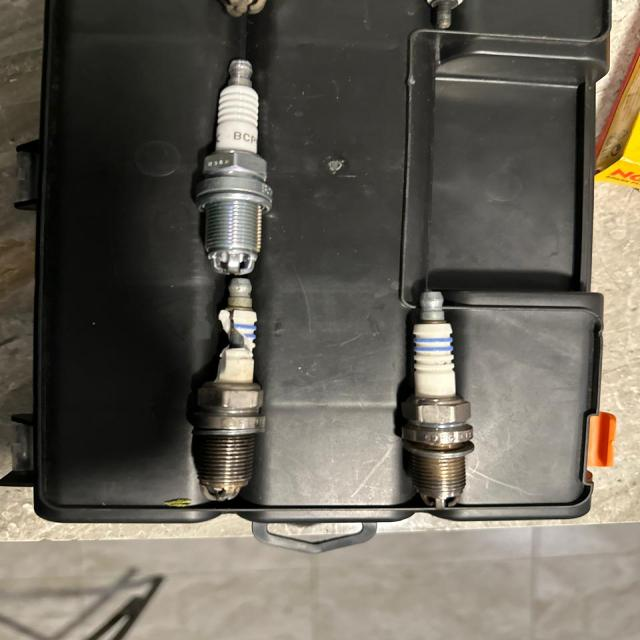damaged_spark-plug: (184, 278, 277, 504)
spark-plug: (404, 283, 477, 516), (198, 59, 270, 274)
